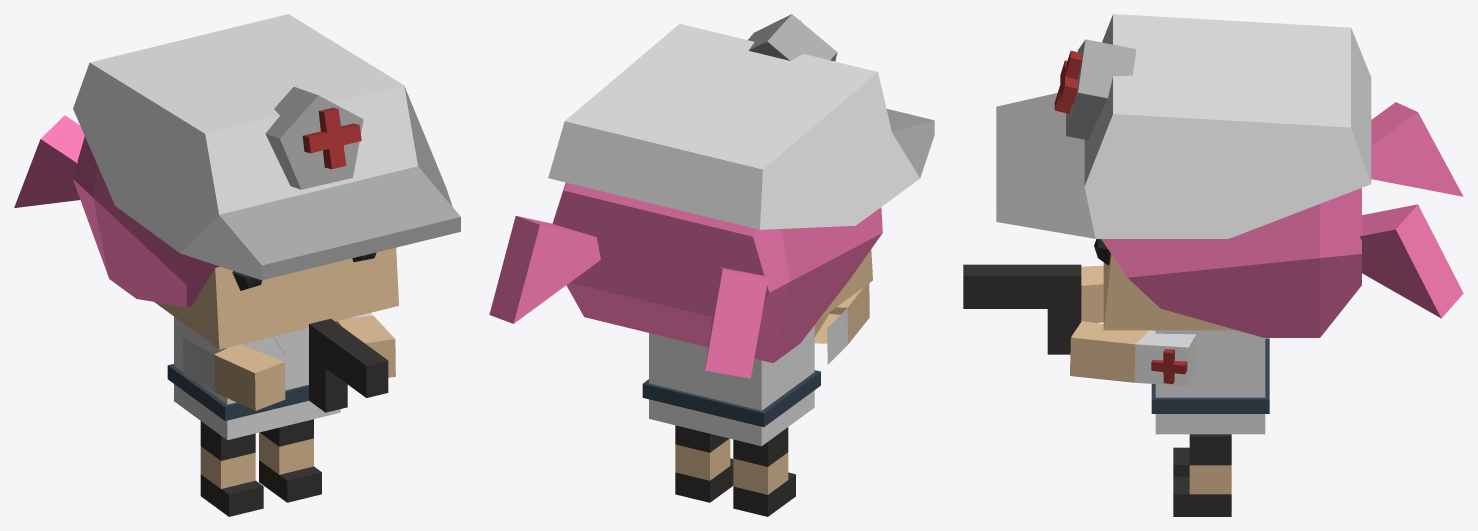
Rendered from Character_police_pink.fbx.
3 renders of one model, left to right at view 1: azimuth 30°, elevation 25°; view 2: azimuth 150°, elevation 25°; view 3: azimuth 270°, elevation 25°, orthographic. The views are drawn at different scales.
Parts seen in each view (by area): view 1: Head1, Foot, Body_Police_Pink, Arm, Gun; view 2: Head1, Body_Police_Pink, Foot, Arm; view 3: Head1, Body_Police_Pink, Arm, Gun, Foot.
Part boxes in pixels (x1,y1,x2,y2): Head1: (14, 14, 460, 349); Foot: (200, 419, 321, 516); Body_Police_Pink: (167, 317, 340, 440); Arm: (183, 313, 395, 410); Gun: (309, 318, 388, 412); Head1: (489, 14, 934, 378); Body_Police_Pink: (642, 325, 820, 446); Foot: (675, 425, 795, 516); Arm: (814, 283, 869, 364); Head1: (996, 14, 1463, 337); Body_Police_Pink: (1151, 330, 1269, 434); Arm: (1070, 265, 1195, 385); Gun: (963, 264, 1081, 354); Foot: (1173, 434, 1231, 516).
Bounding box in the file's own units: 1.48 × 2.35 × 2.34.
